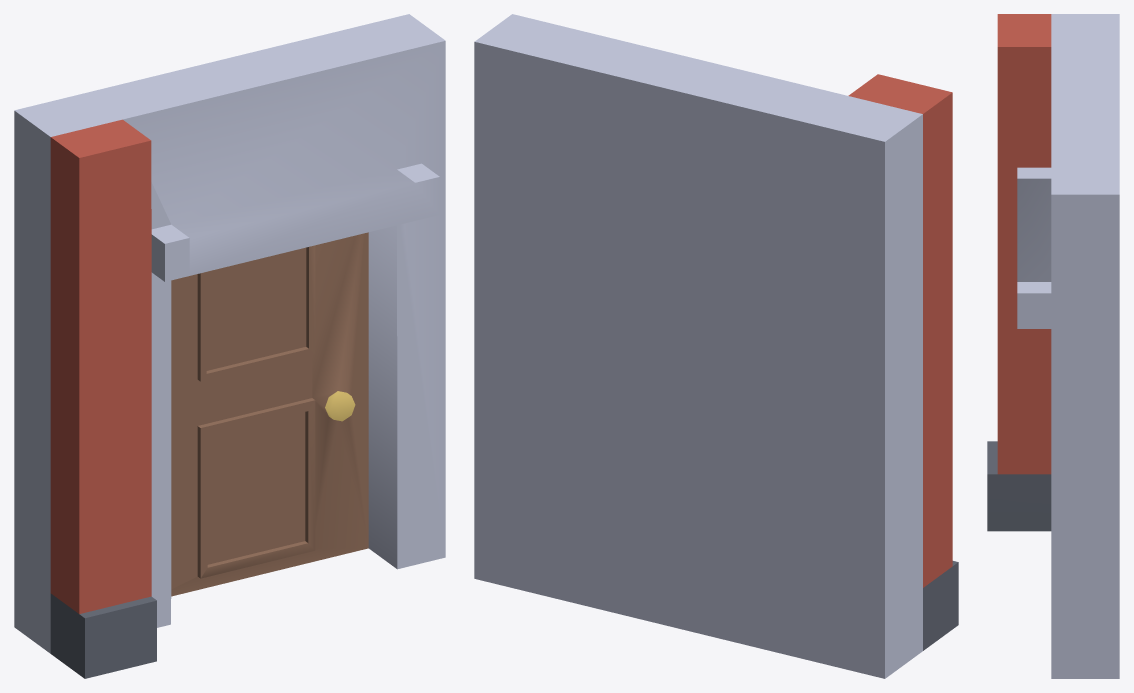
Rendered from stage4_wall3.fbx.
3 renders of one model, left to right at view 1: azimuth 30°, elevation 25°; view 2: azimuth 150°, elevation 25°; view 3: azimuth 270°, elevation 25°, orthographic. The views are drawn at different scales.
Visible parts, largest first — view 1: wall; view 2: wall; view 3: wall.
Part boxes in pixels (box(x1,y1,x2,y2)): wall: box(14, 14, 445, 678); wall: box(474, 14, 958, 678); wall: box(987, 14, 1119, 678).
Bounding box in the file's own units: 400 × 500 × 124.
